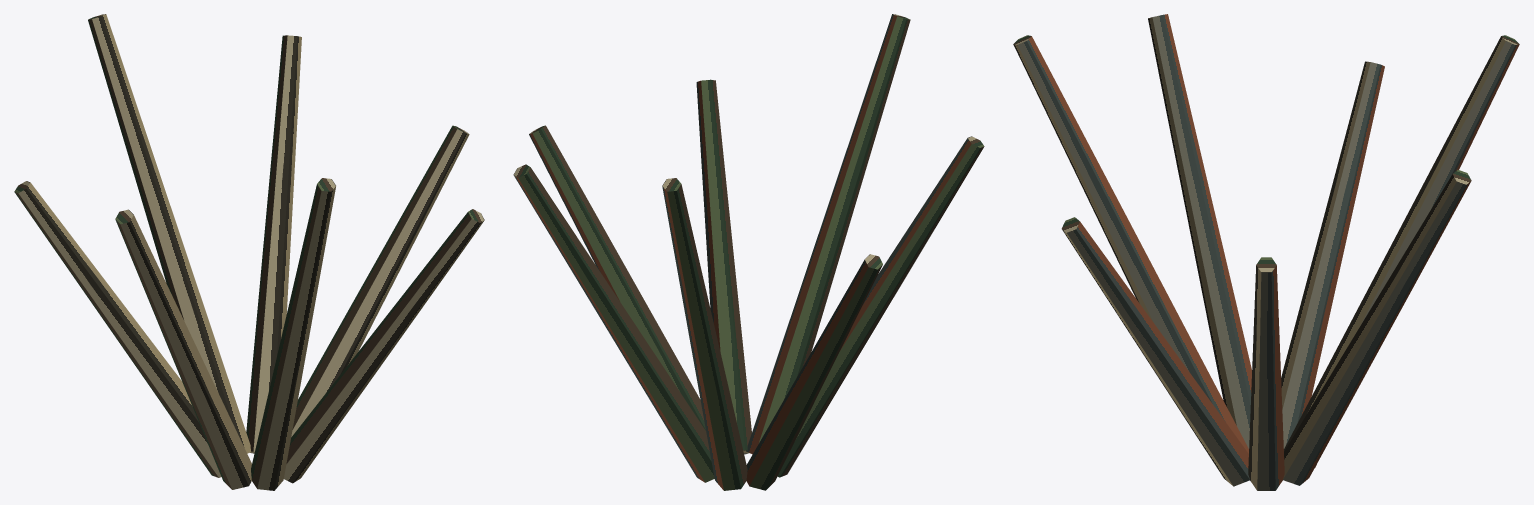
Rendered from grassTufts.obj.
3 views of the same model, side by side, from view 1: azimuth 30°, elevation 25°; view 2: azimuth 150°, elevation 25°; view 3: azimuth 270°, elevation 25° (orthographic). The views are drawn at different scales.
Visible parts, largest first — view 1: grassTufts; view 2: grassTufts; view 3: grassTufts.
Part boxes in pixels (<box>): grassTufts: <box>14,14,484,490</box>; grassTufts: <box>513,14,984,490</box>; grassTufts: <box>1013,14,1519,490</box>.
Size of the model in its own units: 0.7463 by 0.6919 by 0.7692.
1 material, 1 textured.
